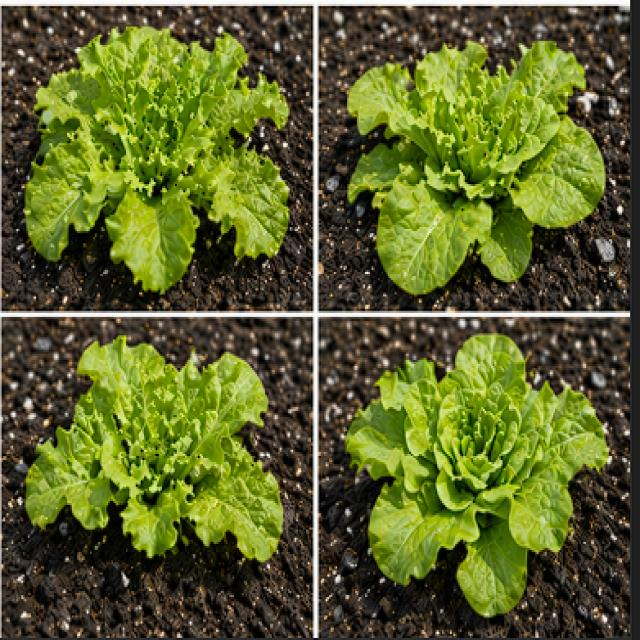inmadura: (345, 333, 607, 615), (25, 27, 286, 290), (349, 41, 604, 294), (25, 335, 282, 558)
